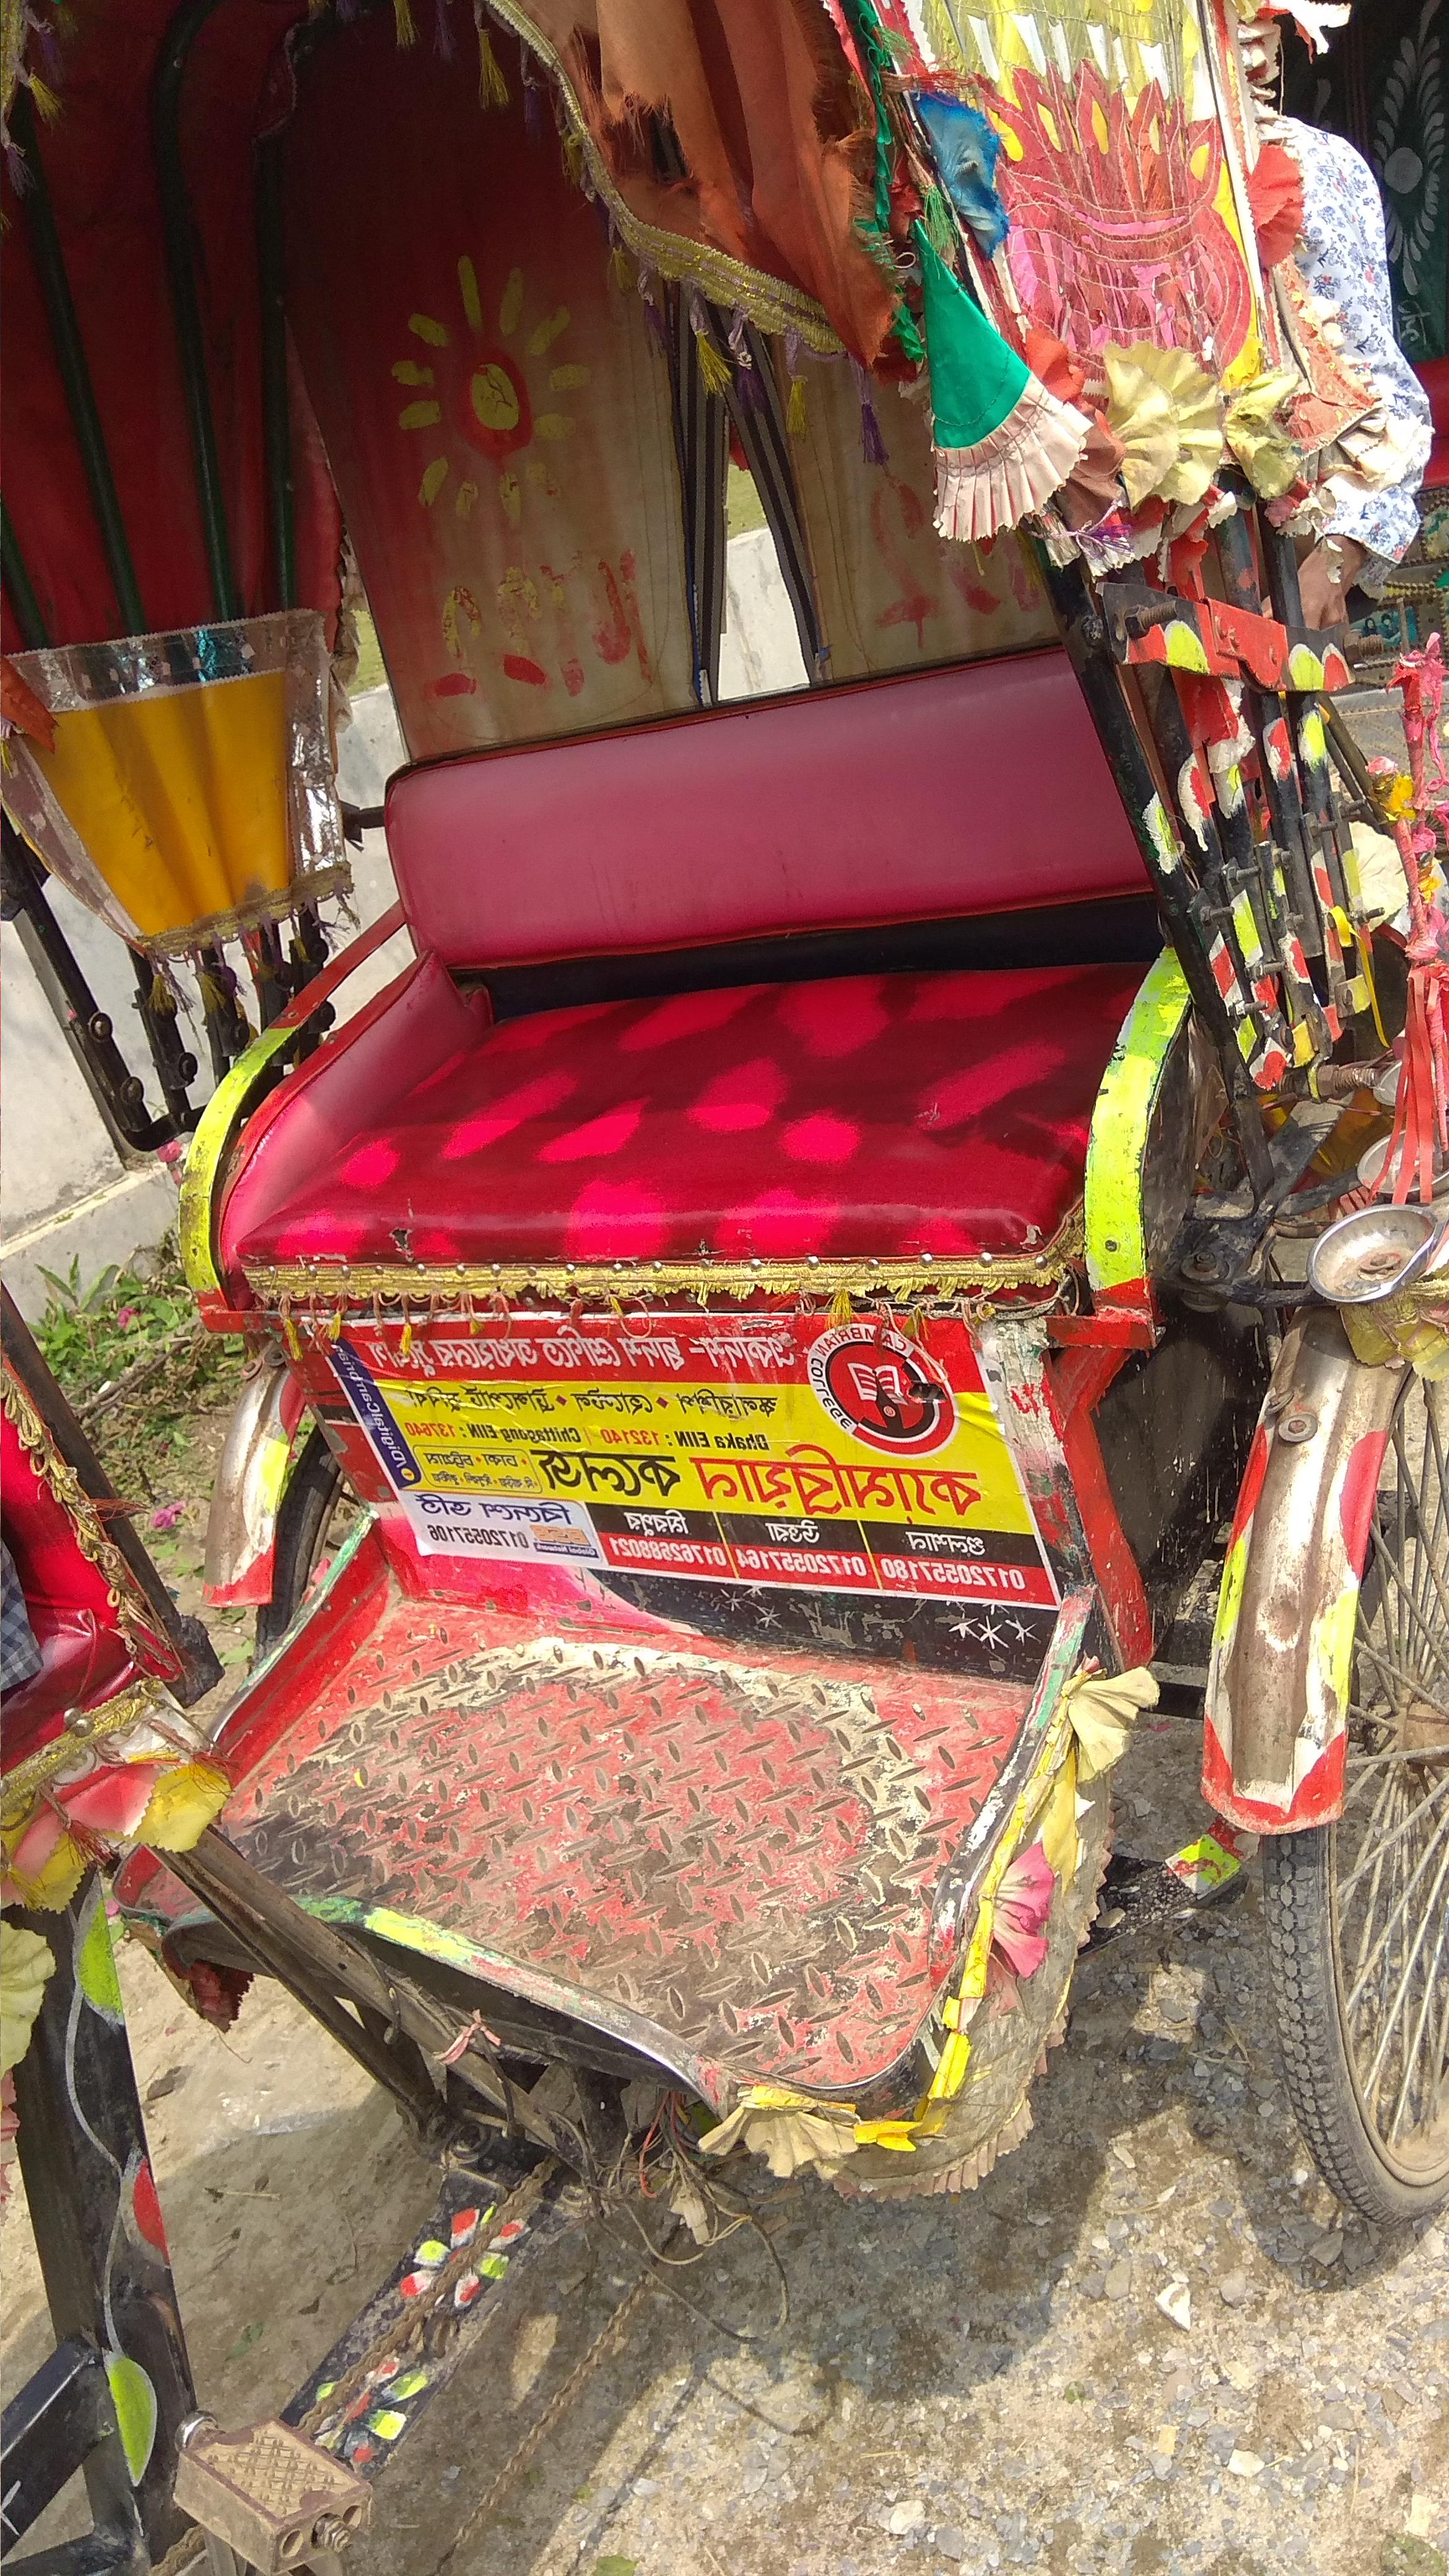Rickshaw: (19, 2, 1447, 2442)
